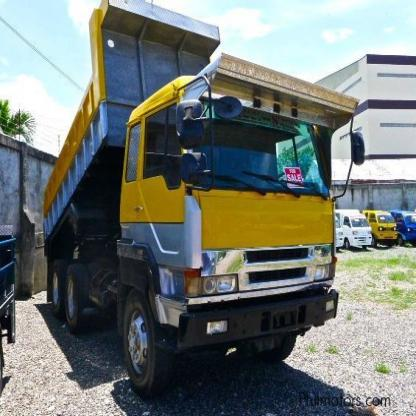truck: (43, 1, 365, 385)
